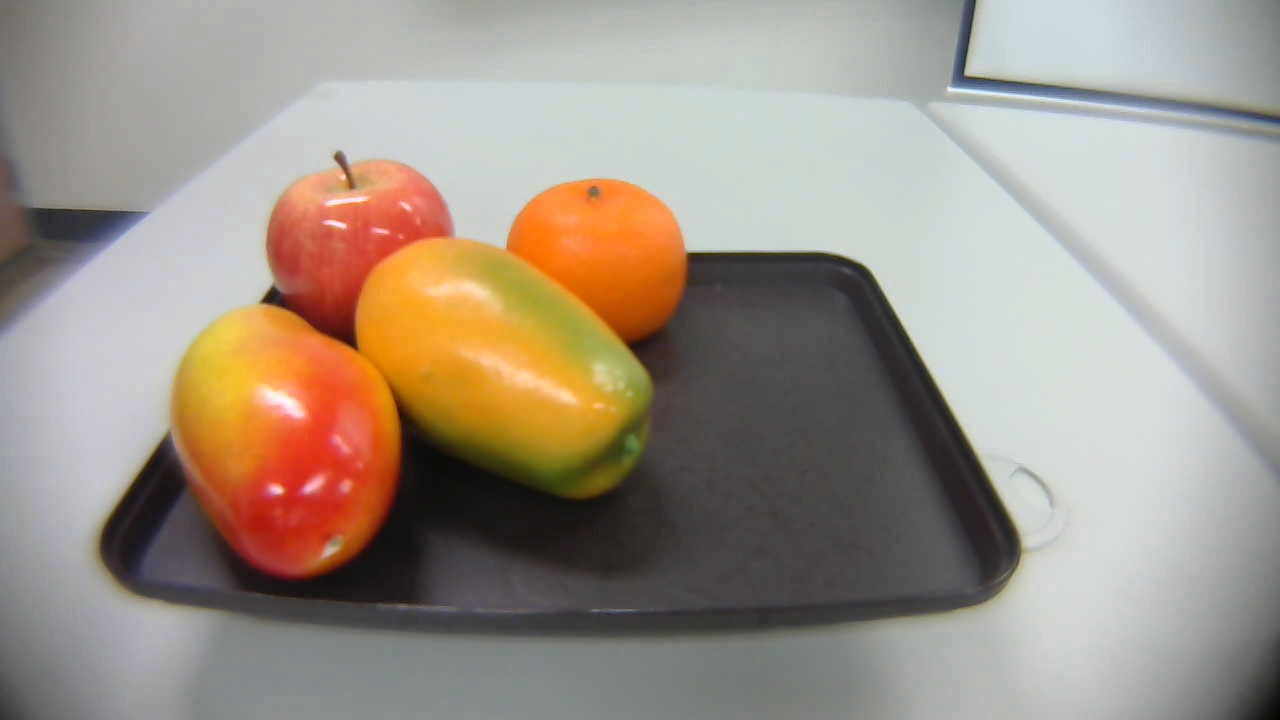orange: (500, 174, 693, 343)
papya: (355, 233, 663, 518)
red apple: (260, 149, 458, 338)
red mango: (162, 296, 413, 588)
